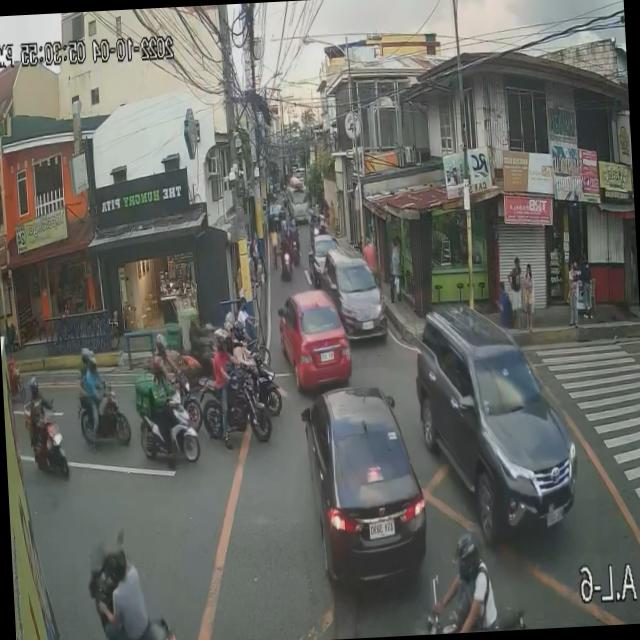full: (451, 532, 484, 586), (212, 325, 230, 351), (233, 316, 248, 344), (156, 333, 168, 356), (88, 348, 98, 372)
